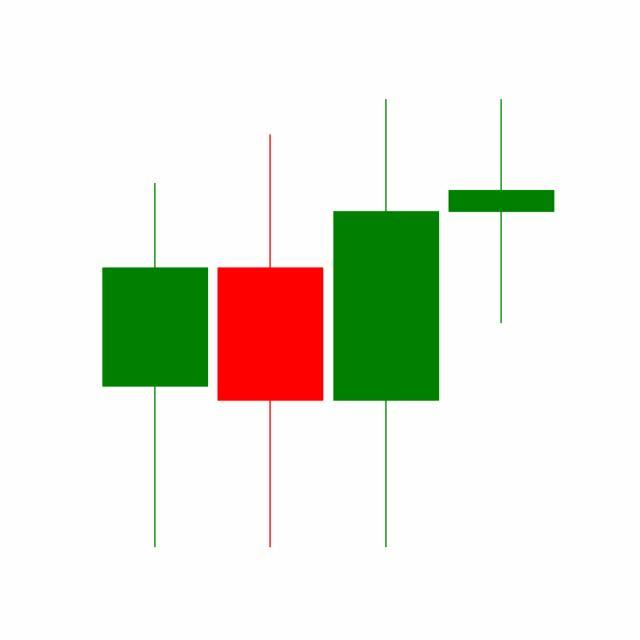Spinning Top: (444, 97, 560, 327)
